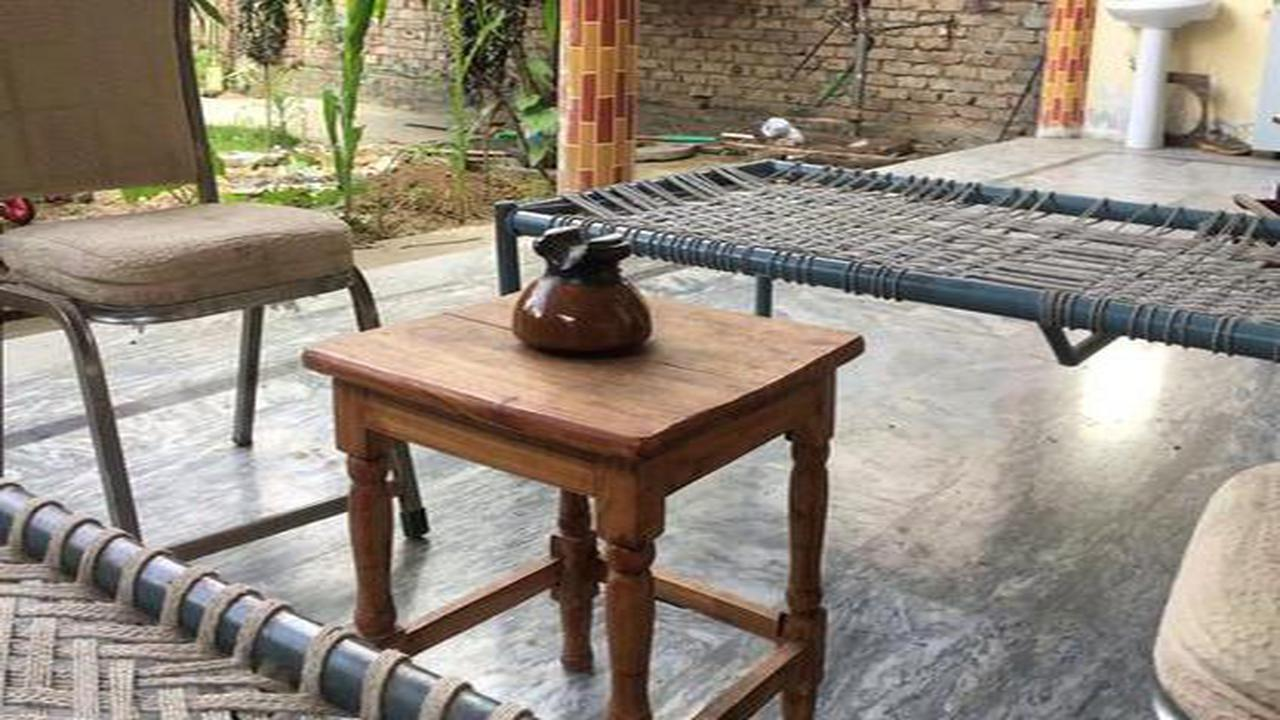insulator_pin: (490, 217, 674, 371)
